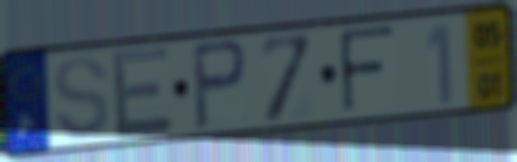1: (425, 20, 453, 107)
7: (260, 30, 313, 126)
E: (107, 42, 176, 142)
F: (336, 23, 398, 117)
P: (189, 37, 251, 133)
S: (51, 53, 113, 142)
